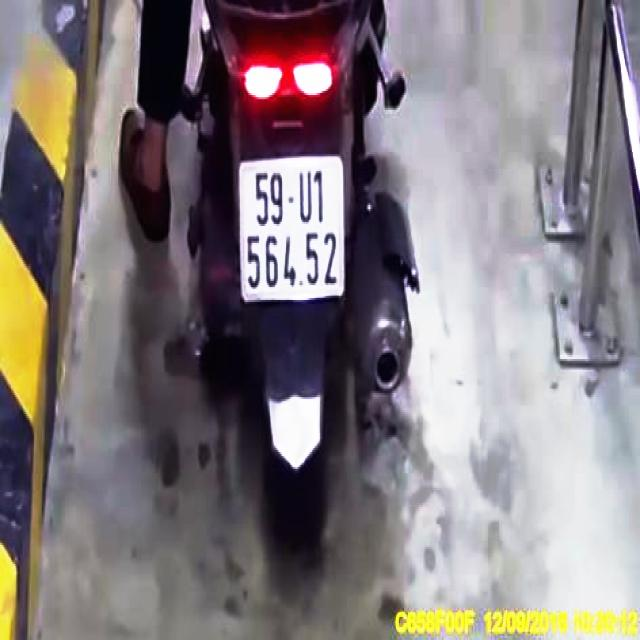license_plate: (246, 160, 346, 299)
